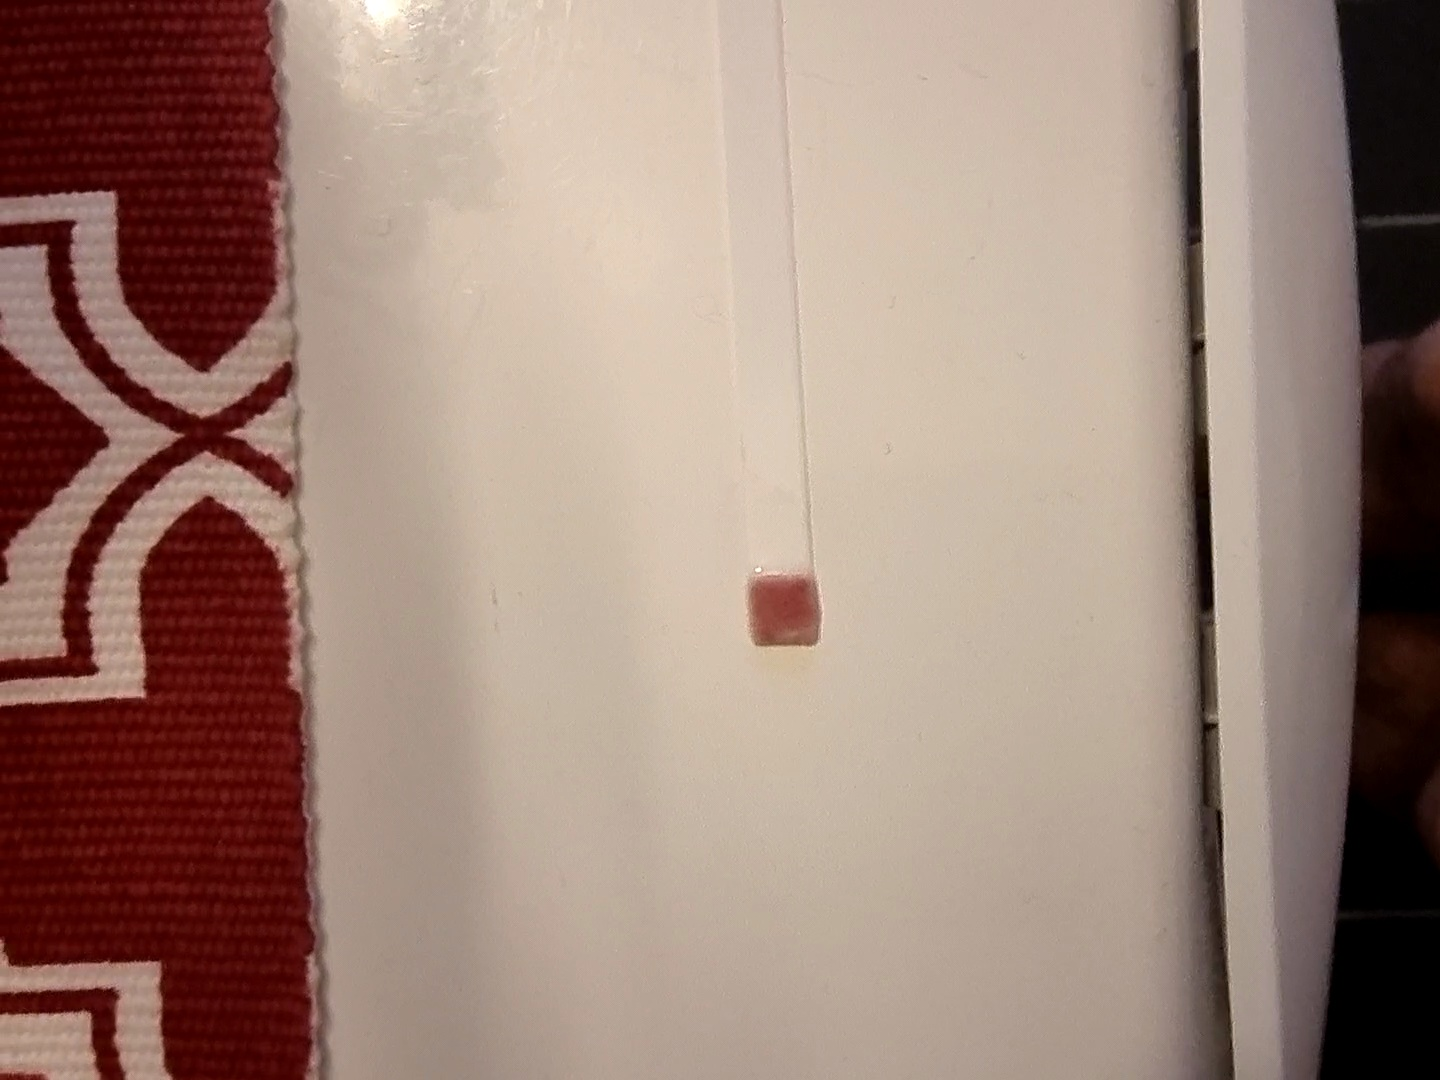keto-tip: (743, 568, 828, 652)
